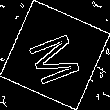M_E: (23, 24, 87, 86)
